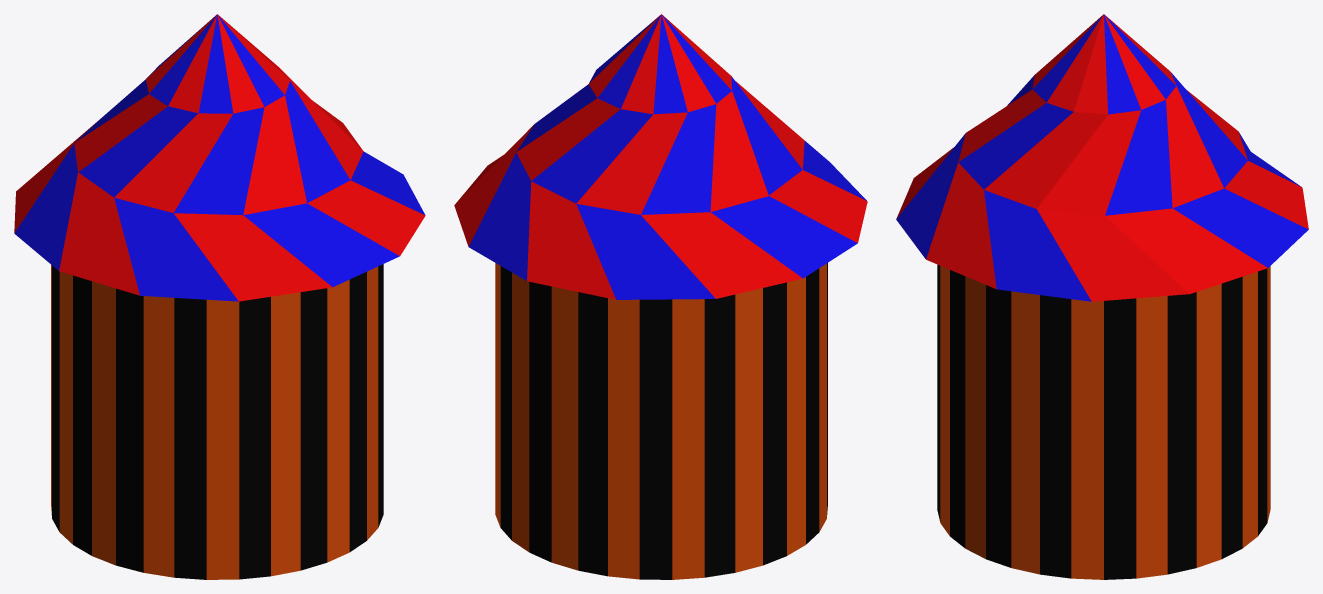
File: WarpMissile.fbx
3 views of the same model, side by side, from view 1: azimuth 30°, elevation 25°; view 2: azimuth 150°, elevation 25°; view 3: azimuth 270°, elevation 25° (orthographic).
Visible parts, largest first — view 1: Cylinder.001, Cone; view 2: Cylinder.001, Cone; view 3: Cylinder.001, Cone.
Boxes of the visible parts, box(x1,y1,x2,y2) form: Cylinder.001: box(51, 264, 383, 579); Cone: box(14, 14, 425, 301); Cylinder.001: box(495, 263, 827, 579); Cone: box(454, 14, 867, 299); Cylinder.001: box(937, 264, 1270, 579); Cone: box(896, 14, 1308, 301).
Size of the model in its own units: 248 by 328 by 248.
